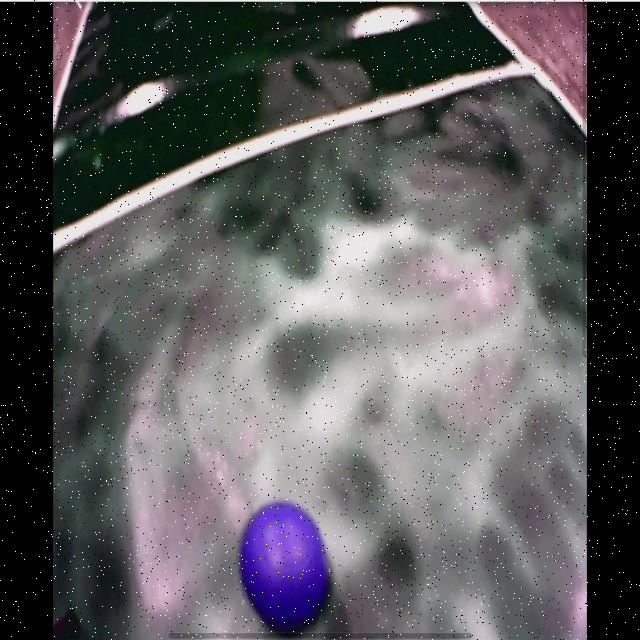ball: (240, 502, 326, 628)
